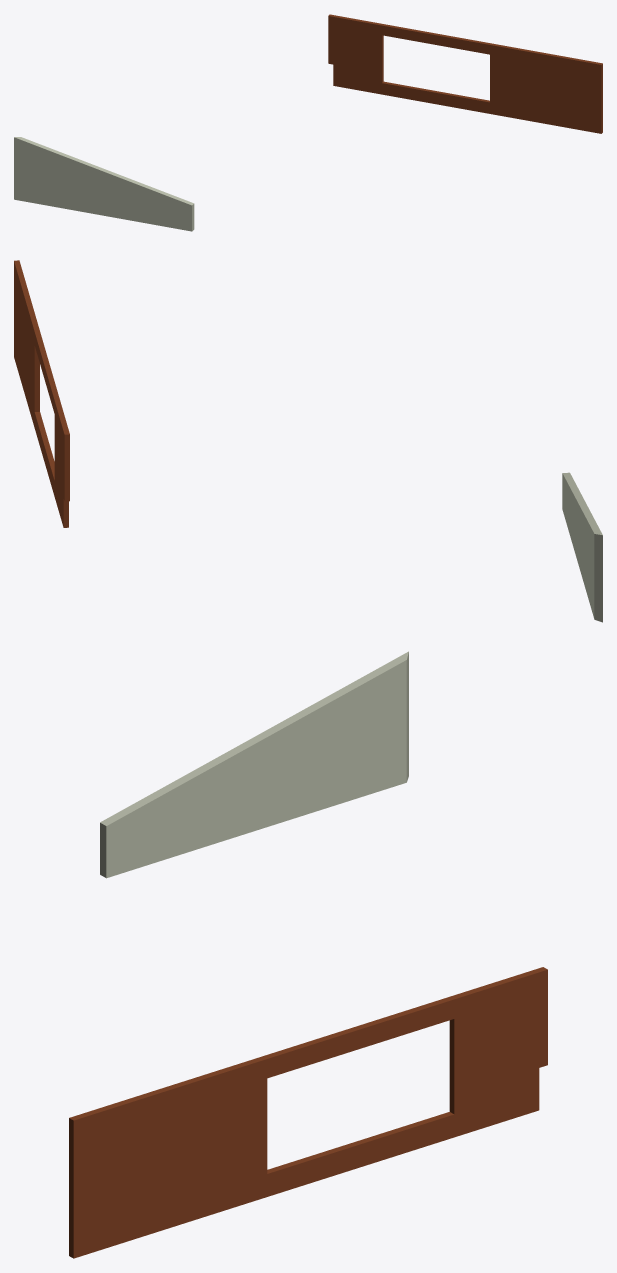
File: rac_basic_sample_project_Level_1_IfcWall.dae
3 views of the same model, one above another, from view 1: azimuth 30°, elevation 25°; view 2: azimuth 150°, elevation 25°; view 3: azimuth 270°, elevation 25° (orthographic). The views are drawn at different scales.
Visible parts, largest first — view 1: 2OulbipBrAkwQNv_KJRV9c, 0NWseyvsH7_gBW225aGtuD; view 2: 2OulbipBrAkwQNv_KJRV9c, 0NWseyvsH7_gBW225aGtuD; view 3: 2OulbipBrAkwQNv_KJRV9c, 0NWseyvsH7_gBW225aGtuD.
Boxes of the visible parts, box(x1,y1,x2,y2) form: 2OulbipBrAkwQNv_KJRV9c: box(328, 14, 602, 133); 0NWseyvsH7_gBW225aGtuD: box(14, 137, 194, 231); 2OulbipBrAkwQNv_KJRV9c: box(14, 260, 69, 527); 0NWseyvsH7_gBW225aGtuD: box(562, 472, 602, 622); 2OulbipBrAkwQNv_KJRV9c: box(69, 967, 547, 1258); 0NWseyvsH7_gBW225aGtuD: box(100, 651, 408, 878).
Bounding box in the file's own units: 29.87 × 12.26 × 4.2.
